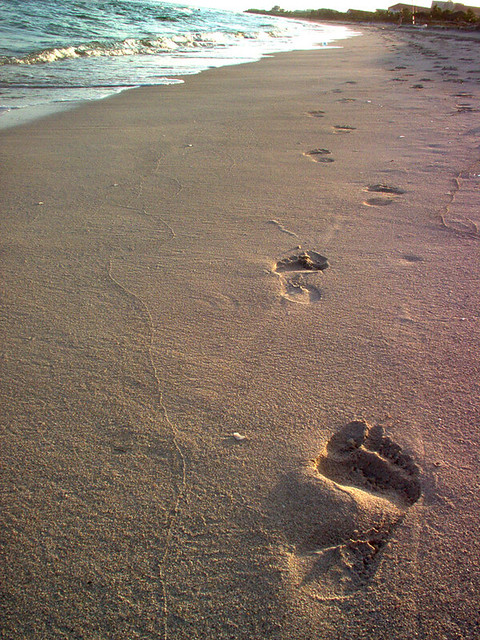human_footprint: (292, 405, 429, 599), (266, 237, 340, 316), (357, 168, 407, 217), (296, 144, 341, 170), (306, 106, 325, 120), (333, 120, 354, 132)
